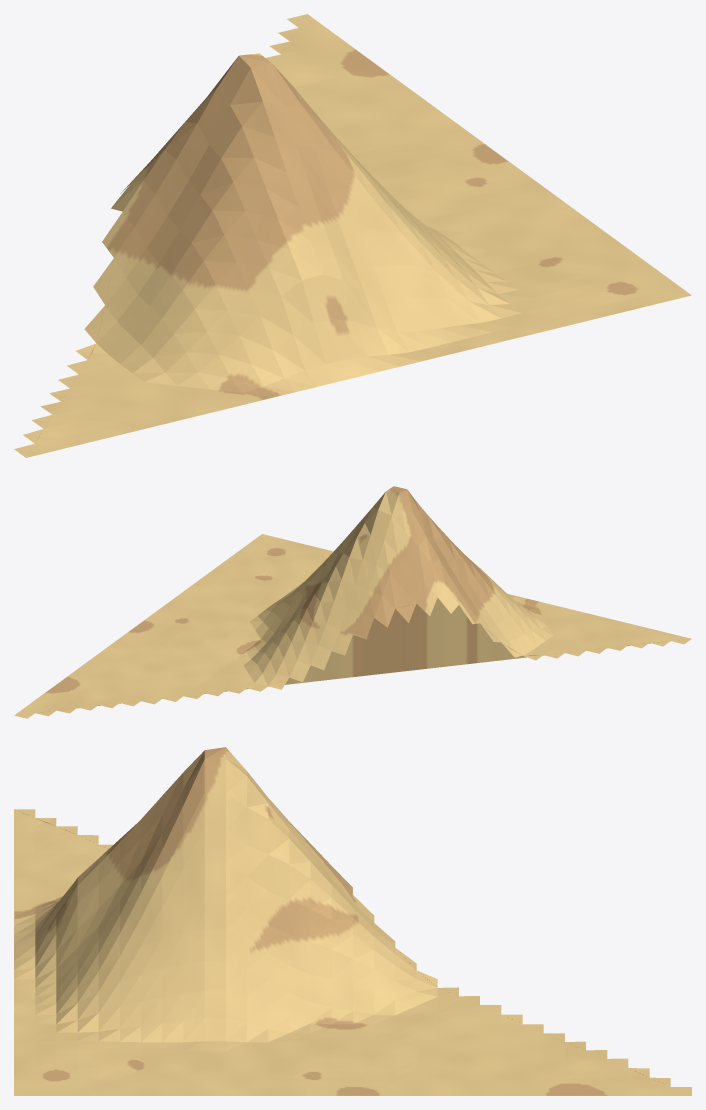
Rendered from Desert_Mountains_10_NE.obj.
The picture shows the model from 3 angles, top to bottom: view 1: azimuth 30°, elevation 25°; view 2: azimuth 150°, elevation 25°; view 3: azimuth 270°, elevation 25°; orthographic projection. The views are drawn at different scales.
Bounding box in the file's own units: 10 × 3.35 × 10.
Materials: 1 (1 with a texture image).
